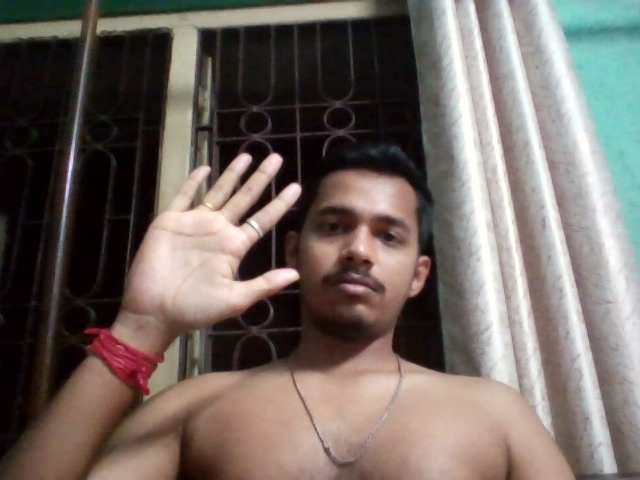Hello: (129, 128, 301, 331)
